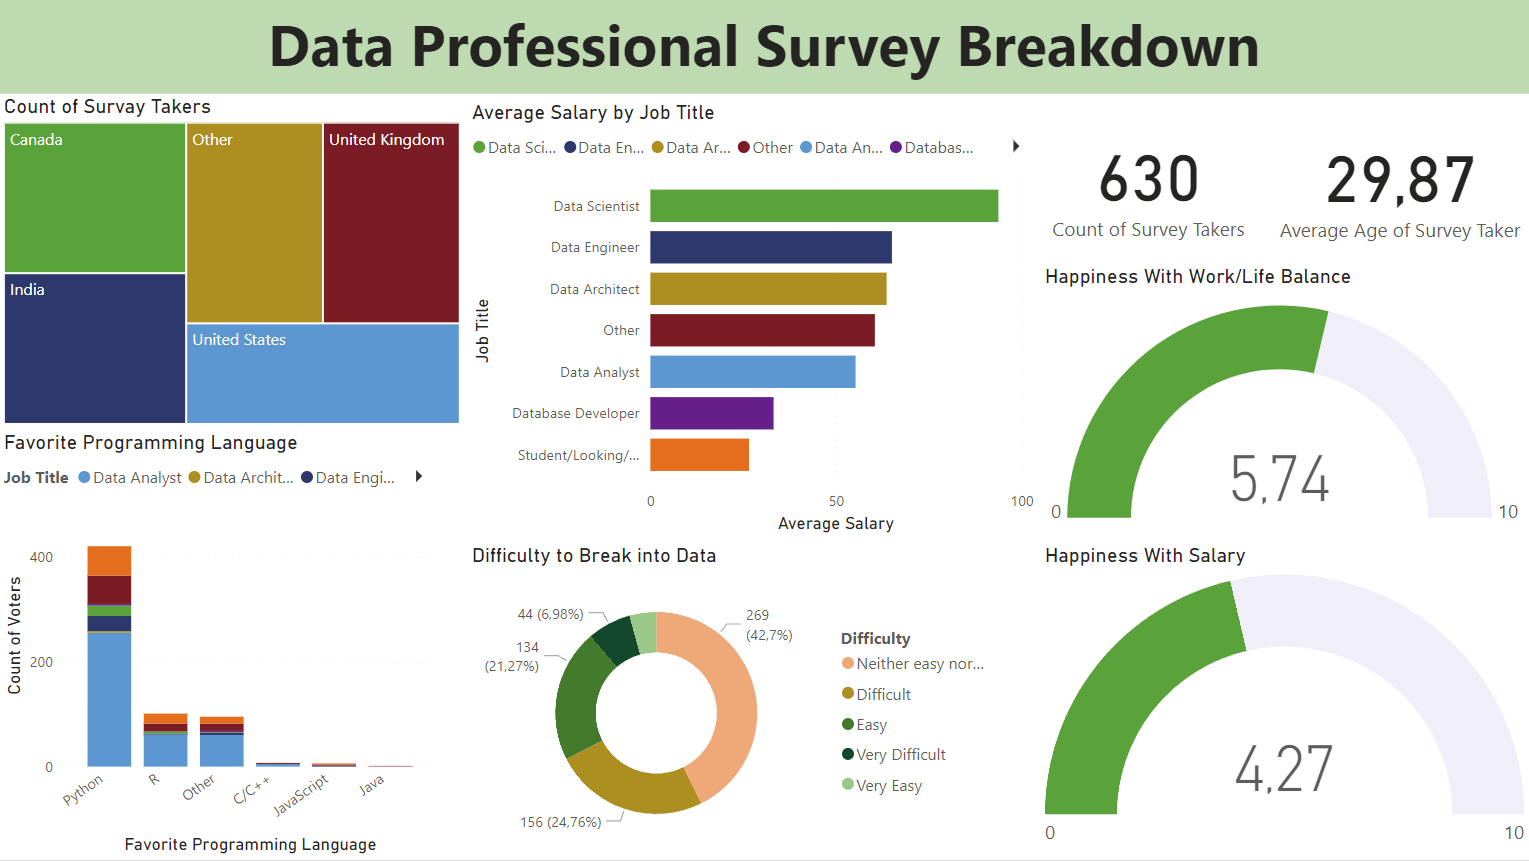

What the dashboard file says about the page in this screenshot:
{"tool":"powerbi","page":{"name":"Página 1","canvas":[1280,720],"ordinal":0},"visuals":[{"type":"textbox","box":[0,0,1280,80],"z":0},{"type":"card","fields":{"Values":["CountNonNull(Data Professional Survey.Unique ID)"]},"box":[869.6,80,182.9,148.6],"z":1000},{"type":"card","fields":{"Values":["Avg(Data Professional Survey.Q10 - Current Age)"]},"box":[1062.9,80,217.1,149.6],"z":2000},{"type":"barChart","title":"Average Salary by Job Title","fields":{"Category":["Data Professional Survey.Q1 - Which Title Best Fits your Current Role?.1"],"Y":["Avg(Data Professional Survey.Average Salary)"],"Series":["Data Professional Survey.Q1 - Which Title Best Fits your Current Role?.1"]},"box":[390.6,85.2,479,366.8],"z":3000},{"type":"columnChart","title":"Favorite Programming Language","fields":{"Category":["Data Professional Survey.Q5 - Favorite Programming Language.1.1"],"Y":["CountNonNull(Data Professional Survey.Unique ID)"],"Series":["Data Professional Survey.Q1 - Which Title Best Fits your Current Role?.1"]},"box":[0,360.5,370.9,359.5],"z":4000},{"type":"treemap","title":"Count of Survay Takers","fields":{"Values":["Count(Data Professional Survey.Q11 - Which Country do you live in?.1)"],"Group":["Data Professional Survey.Q11 - Which Country do you live in?.1"]},"box":[0,80,390.6,280.5],"z":5000},{"type":"gauge","title":"Happiness With Work/Life Balance","fields":{"Y":["Avg(Data Professional Survey.Q6 - How Happy are you in your Current Position with the following? (Work/Life Balance))"],"MinValue":["Min(Data Professional Survey.Q6 - How Happy are you in your Current Position with the following? (Work/Life Balance))1"],"MaxValue":["Max(Data Professional Survey.Q6 - How Happy are you in your Current Position with the following? (Work/Life Balance))2"]},"box":[869.6,222.3,410.4,232.7],"z":6000},{"type":"gauge","title":"Happiness With Salary","fields":{"Y":["Avg(Data Professional Survey.Q6 - How Happy are you in your Current Position with the following? (Salary))"],"MinValue":["Min(Data Professional Survey.Q6 - How Happy are you in your Current Position with the following? (Salary))"],"MaxValue":["Max(Data Professional Survey.Q6 - How Happy are you in your Current Position with the following? (Salary))"]},"box":[869.6,455.1,410.4,264.9],"z":7000},{"type":"donutChart","title":"Difficulty to Break into Data","fields":{"Category":["Data Professional Survey.Q7 - How difficult was it for you to break into Data?"],"Y":["CountNonNull(Data Professional Survey.Q7 - How difficult was it for you to break into Data?)"]},"box":[390.6,455.1,450.9,264.9],"z":8000}]}

Visuals, with their boxes in screenshot pixels (x1, y1, x2, y2), scaled from the page's 1280x720 canvas onto the 1529x861 screenshot:
textbox: detection(0, 0, 1528, 96)
card - CountNonNull(Data Professional Survey.Unique ID): detection(1039, 96, 1257, 273)
card - Avg(Data Professional Survey.Q10 - Current Age): detection(1270, 96, 1528, 275)
"Average Salary by Job Title" barChart: detection(467, 102, 1039, 541)
"Favorite Programming Language" columnChart: detection(0, 431, 443, 860)
"Count of Survay Takers" treemap: detection(0, 96, 467, 431)
"Happiness With Work/Life Balance" gauge: detection(1039, 266, 1528, 544)
"Happiness With Salary" gauge: detection(1039, 544, 1528, 860)
"Difficulty to Break into Data" donutChart: detection(467, 544, 1005, 860)
